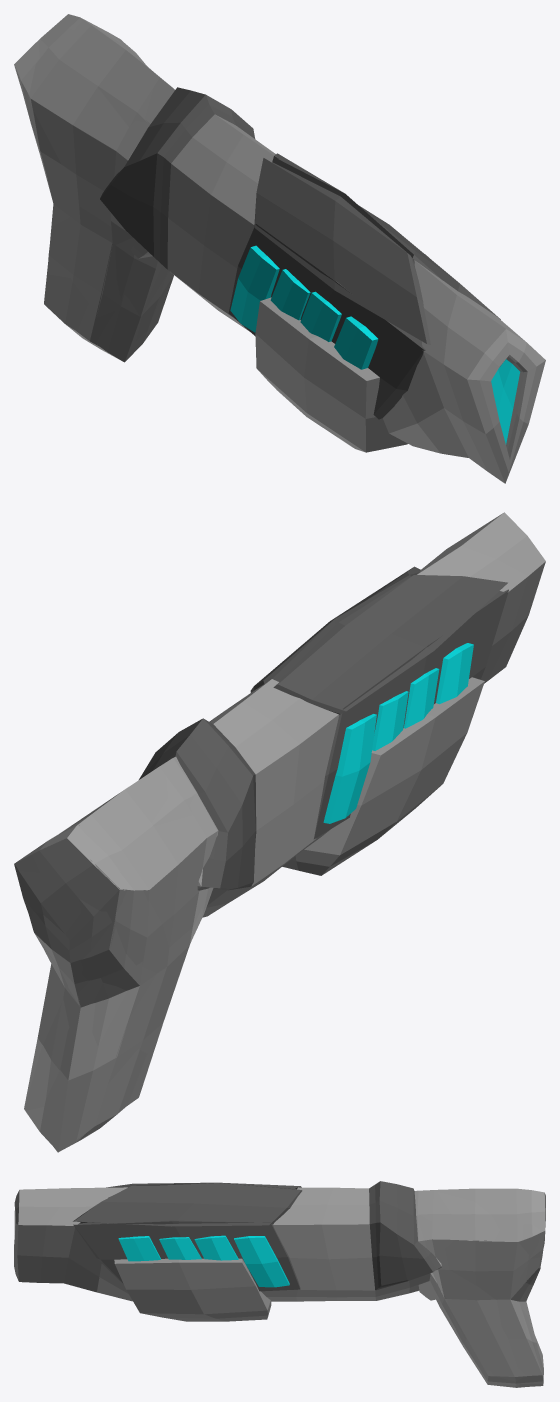
Rendered from shotgun00123324.fbx.
The picture shows the model from 3 angles, top to bottom: view 1: azimuth 30°, elevation 25°; view 2: azimuth 150°, elevation 25°; view 3: azimuth 270°, elevation 25°; orthographic projection. The views are drawn at different scales.
Parts seen in each view (by area): view 1: Cube.003, Cube.002, Cube.001, 큐브.009, 큐브.005, 큐브.008, 큐브.007, 큐브.006; view 2: Cube.003, Cube.002, Cube.001, 큐브.009, 큐브.005, 큐브.008, 큐브.006, 큐브.007; view 3: Cube.003, Cube.002, Cube.001, 큐브.009, 큐브.005, 큐브.008, 큐브.006, 큐브.007.
Boxes of the visible parts, x1,y1,x2,y2 form: Cube.003: (100, 87, 545, 483); Cube.002: (14, 14, 174, 362); Cube.001: (15, 17, 173, 345); 큐브.009: (255, 297, 407, 452); 큐브.005: (230, 245, 279, 332); 큐브.008: (334, 316, 378, 369); 큐브.007: (300, 291, 341, 341); 큐브.006: (270, 269, 310, 320); Cube.003: (139, 512, 545, 917); Cube.002: (14, 756, 218, 1151); Cube.001: (14, 758, 213, 1152); 큐브.009: (282, 677, 484, 875); 큐브.005: (323, 714, 376, 823); 큐브.008: (436, 643, 473, 704); 큐브.006: (372, 691, 408, 750); 큐브.007: (403, 668, 439, 728); Cube.003: (14, 1181, 441, 1301); Cube.002: (416, 1188, 545, 1387); Cube.001: (414, 1190, 545, 1387); 큐브.009: (114, 1258, 271, 1321); 큐브.005: (234, 1236, 289, 1287); 큐브.008: (118, 1236, 160, 1261); 큐브.006: (194, 1235, 238, 1260); 큐브.007: (159, 1237, 201, 1259).
Bounding box in the file's own units: 397 × 1014 × 2392.
